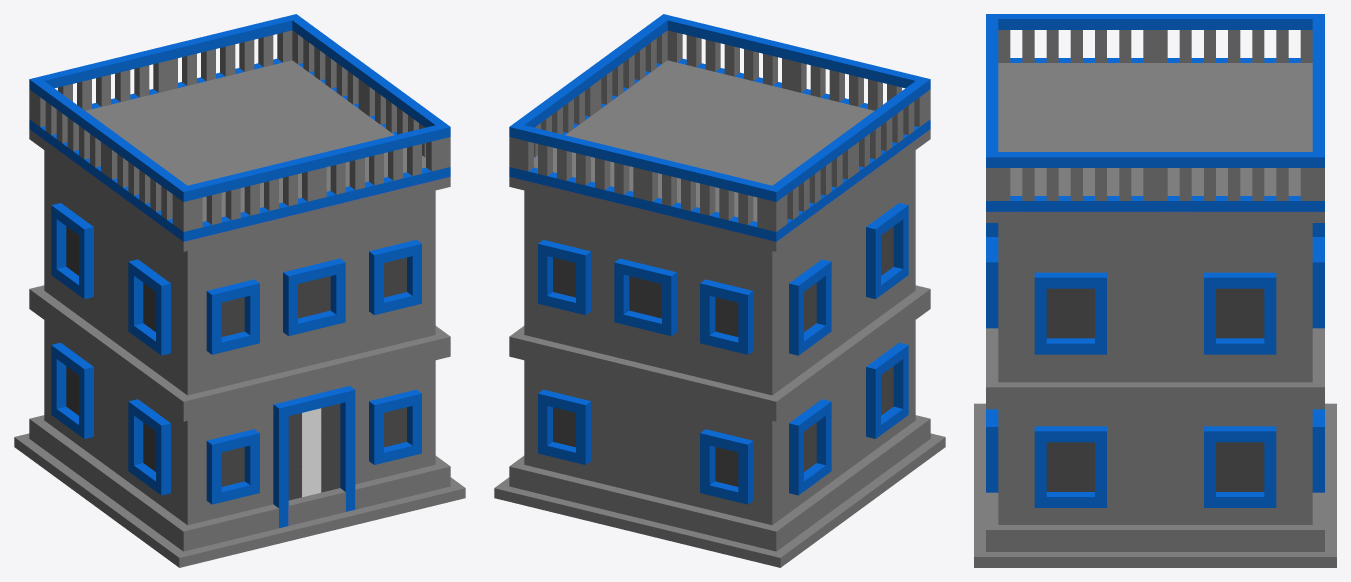
File: Building_1.fbx
3 views of the same model, side by side, from view 1: azimuth 30°, elevation 25°; view 2: azimuth 150°, elevation 25°; view 3: azimuth 270°, elevation 25° (orthographic). The views are drawn at different scales.
Visible parts, largest first — view 1: Building_1; view 2: Building_1; view 3: Building_1.
Boxes of the visible parts, x1,y1,x2,y2 form: Building_1: (14, 14, 465, 567); Building_1: (494, 14, 945, 567); Building_1: (974, 14, 1336, 567).
Bounding box in the file's own units: 30 × 37 × 30.
Materials: 1 (1 with a texture image).
